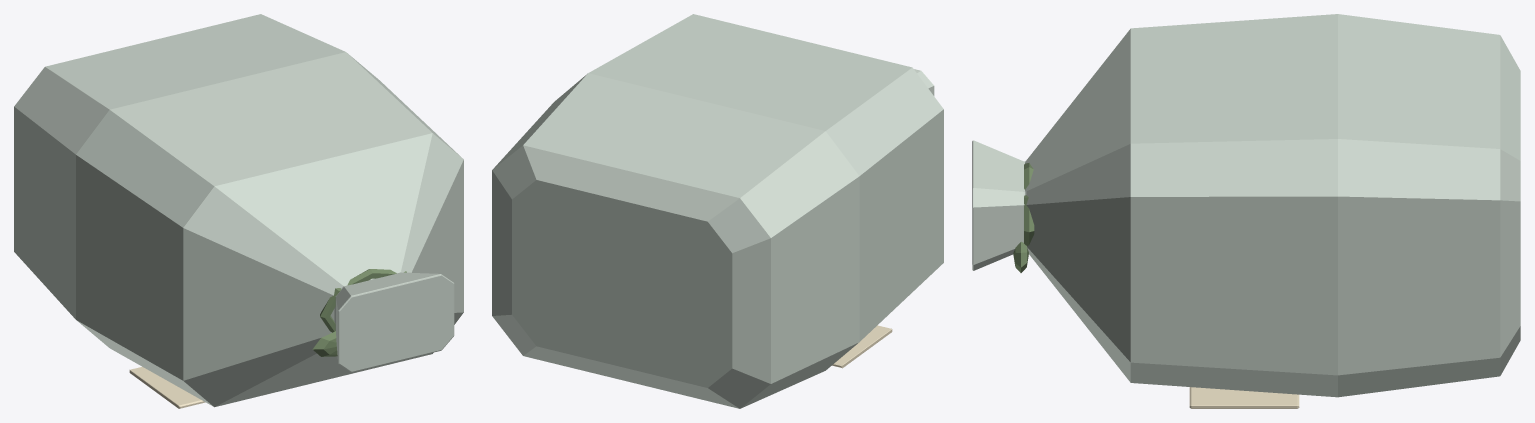
File: mozzarella.glb
3 views of the same model, side by side, from view 1: azimuth 30°, elevation 25°; view 2: azimuth 150°, elevation 25°; view 3: azimuth 270°, elevation 25° (orthographic). The views are drawn at different scales.
Parts seen in each view (by area): view 1: mozzarella; view 2: mozzarella; view 3: mozzarella.
Part boxes in pixels (bbox=[...]): mozzarella: bbox=[14, 14, 463, 408]; mozzarella: bbox=[492, 14, 943, 408]; mozzarella: bbox=[972, 14, 1520, 408].
Bounding box in the file's own units: 0.0936 × 0.0751 × 0.135.
